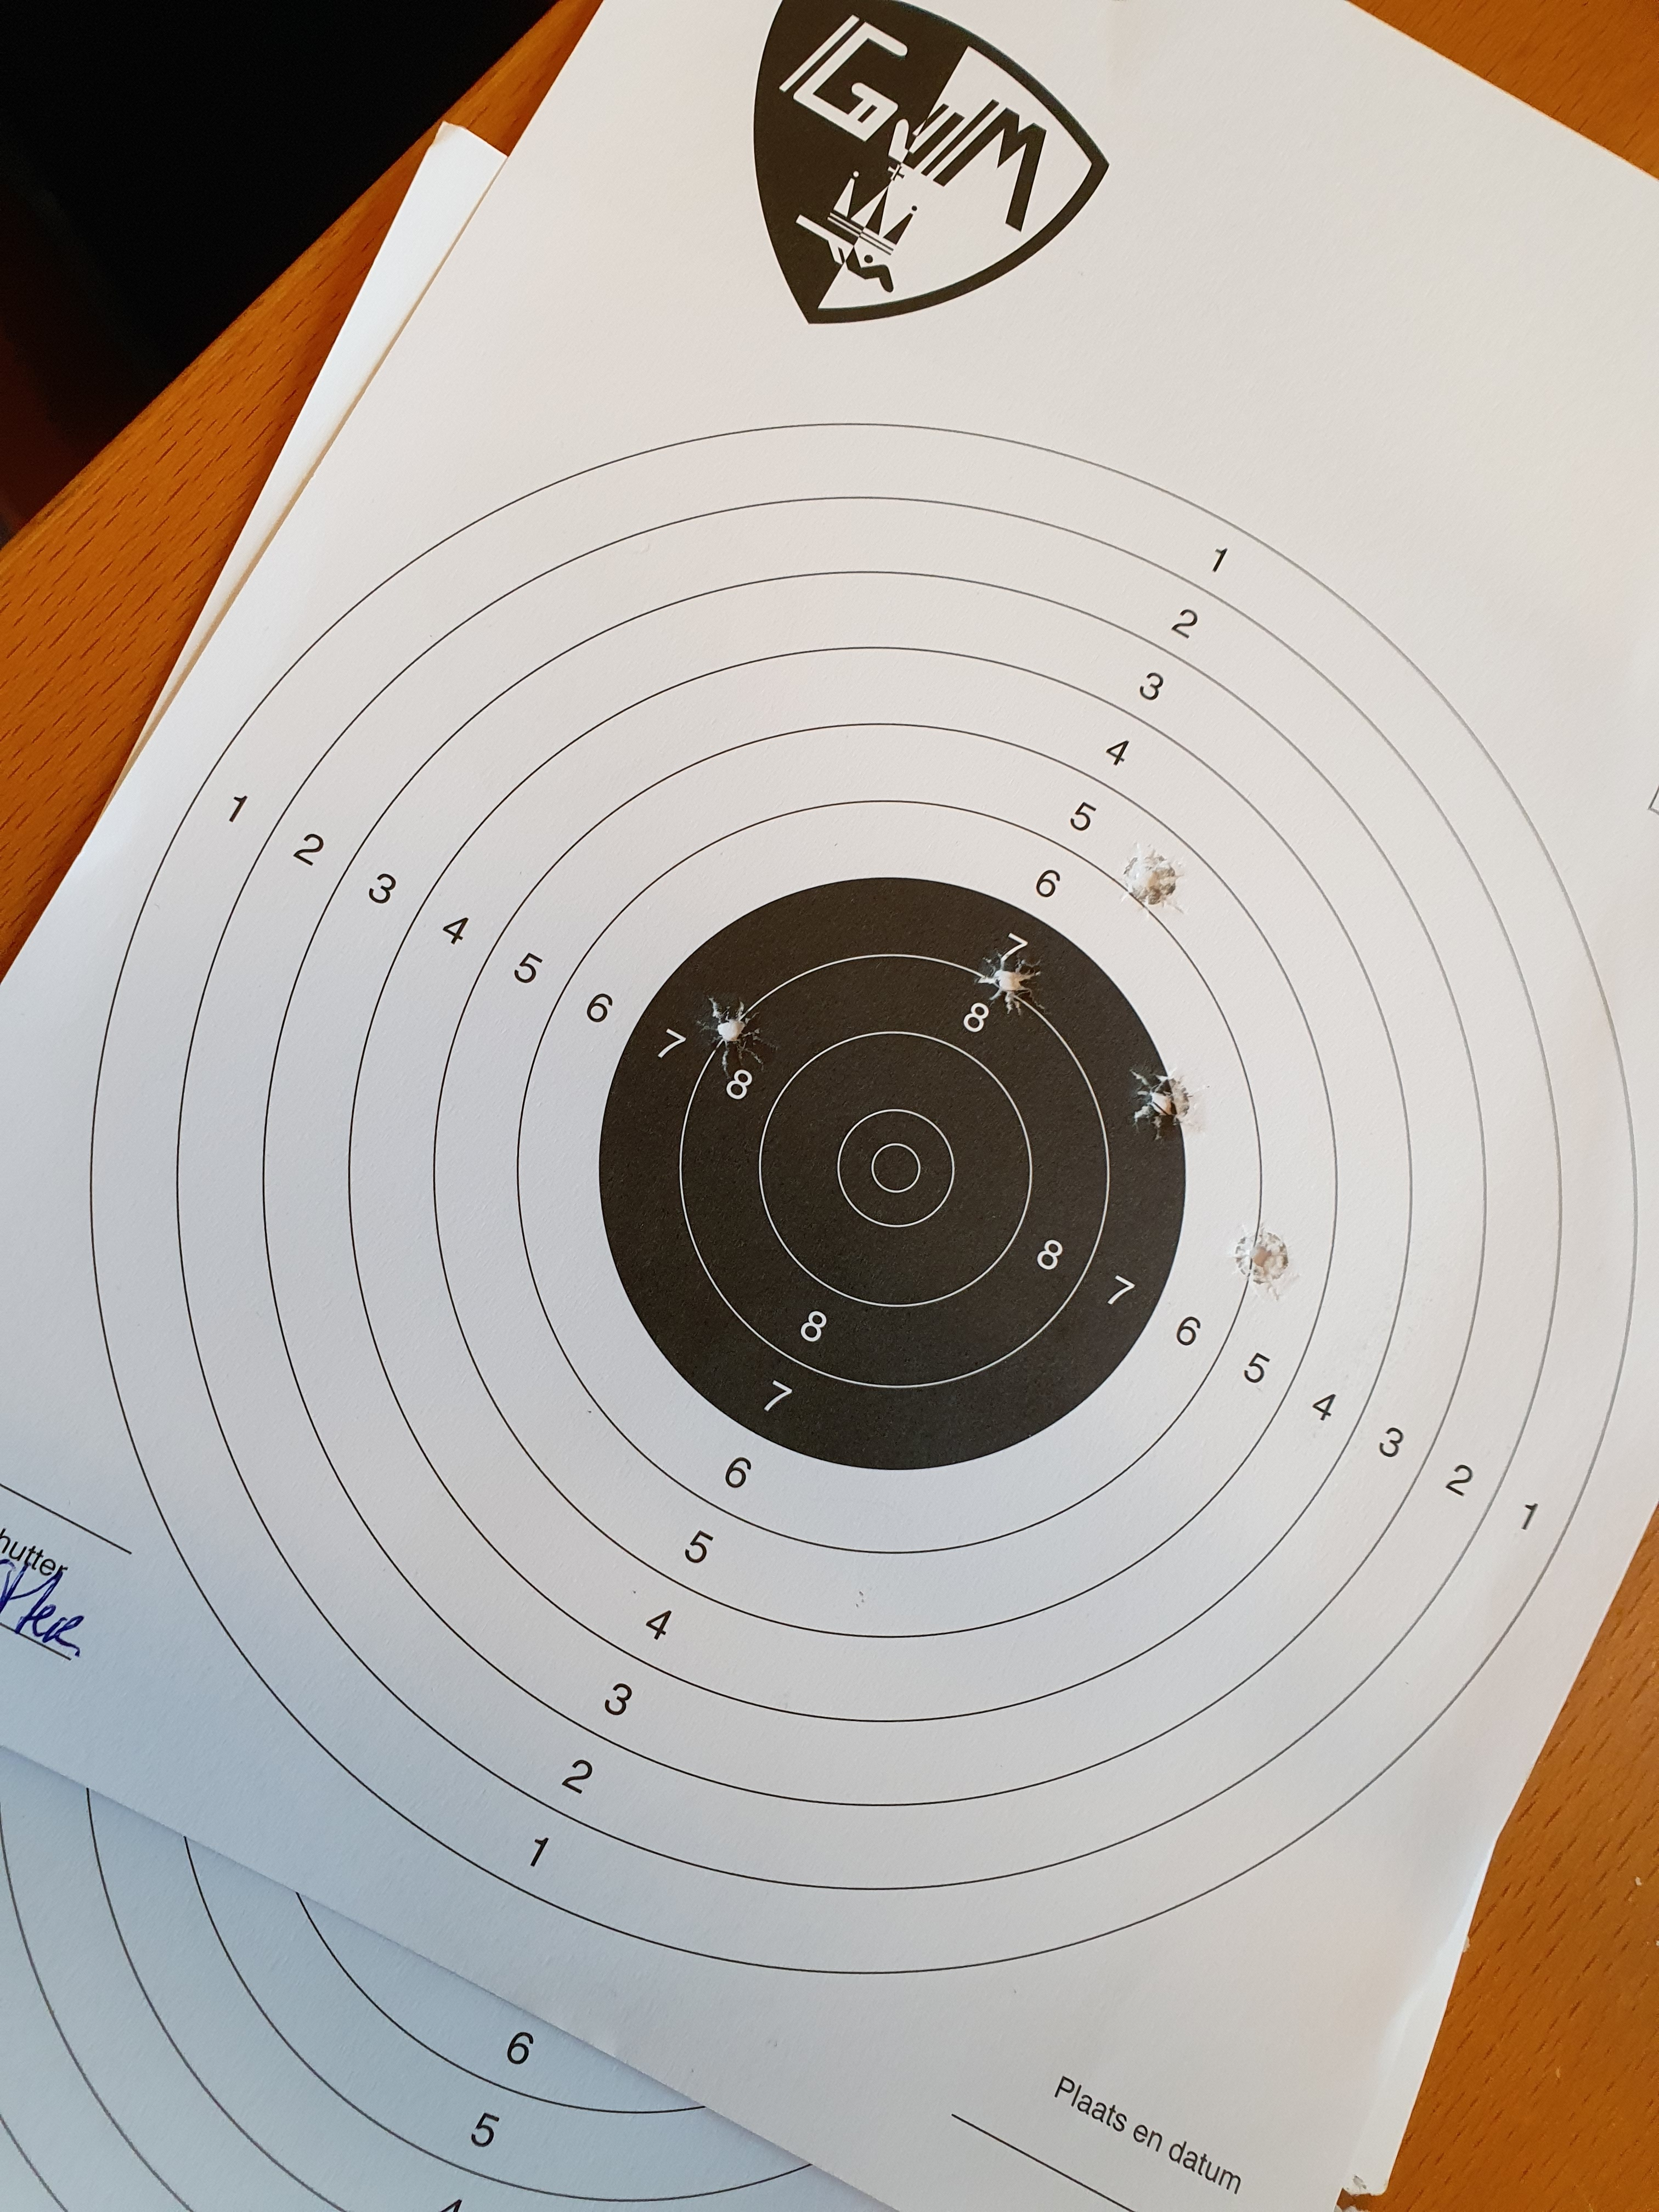center: (598, 876, 1187, 1470)
out: (87, 421, 1635, 1973)
shot: (692, 995, 782, 1078), (1127, 1062, 1209, 1144), (1117, 840, 1188, 918), (1229, 1221, 1297, 1301), (972, 949, 1049, 1019)
target: (835, 1108, 955, 1228)
